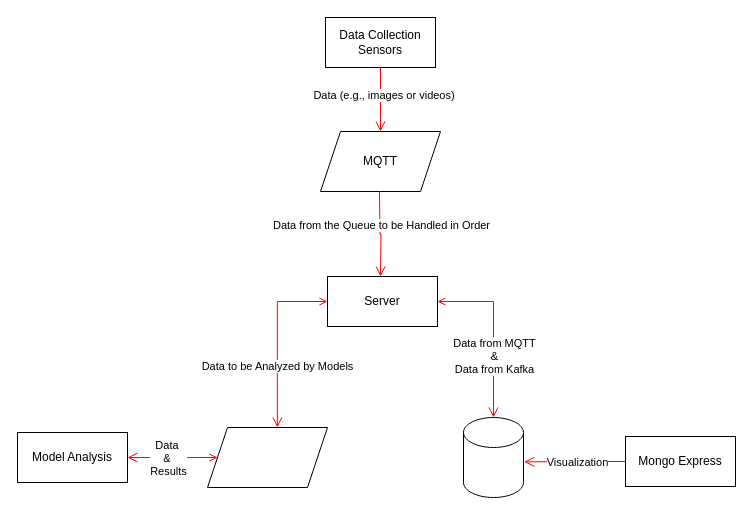
Image size: 753x515. Some labels were removed from this diagram. The box of each missing label's shape, as (x1, y1, x2, y2) in pixels:
Kafka: (206, 426, 328, 488)
MongoDB: (462, 416, 524, 498)
